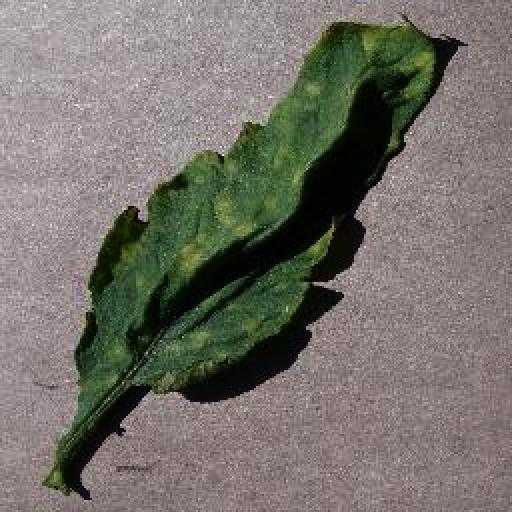disease_tomato: (78, 14, 442, 398)
